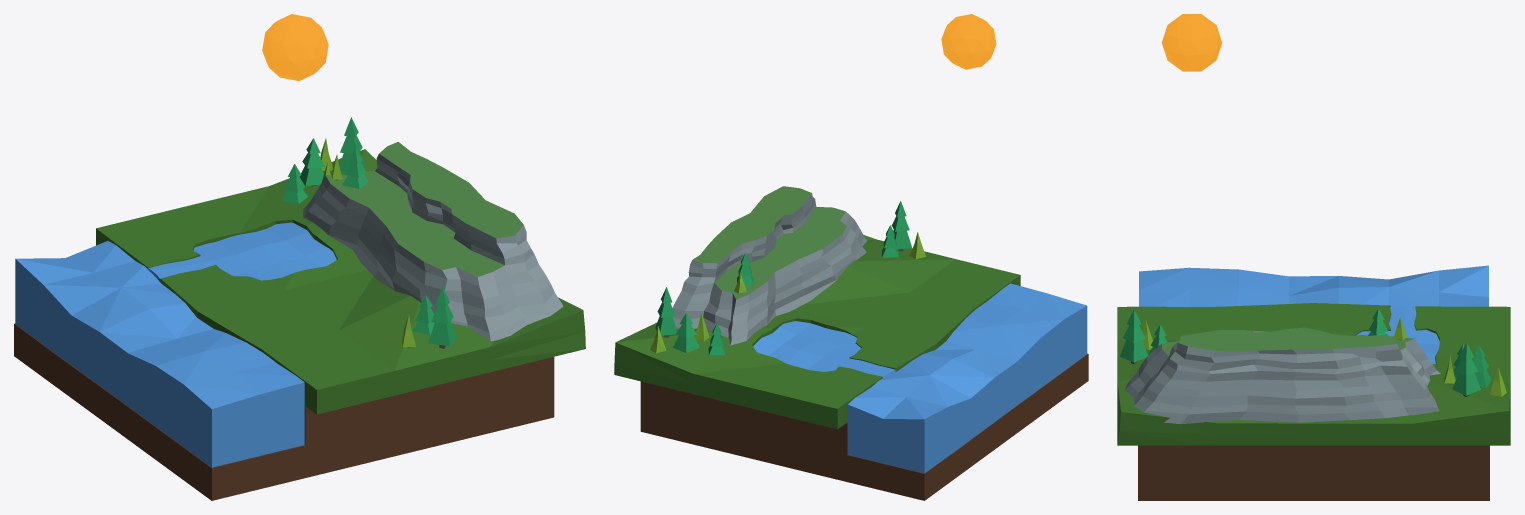
File: water_cycle_model.glb
3 renders of one model, left to right at view 1: azimuth 30°, elevation 25°; view 2: azimuth 150°, elevation 25°; view 3: azimuth 270°, elevation 25°, orthographic. The views are drawn at different scales.
Parts seen in each view (by area): view 1: Cube, Cube.002, Plane, Plane.001, Icosphere, Cube.009, Cube.005, Cube.006; view 2: Cube, Cube.002, Plane, Plane.001, Icosphere, Cube.006, Cube.005, Cube.009; view 3: Cube, Plane, Cube.002, Icosphere, Plane.001, Cube.009, Cube.006, Cube.005.
Part boxes in pixels (x1,y1,x2,y2): Cube: (14,149,585,500); Cube.002: (15,241,304,467); Plane: (303,142,563,341); Plane.001: (147,222,336,282); Icosphere: (262,14,328,80); Cube.009: (428,287,456,348); Cube.005: (299,138,324,186); Cube.006: (339,117,365,174); Cube: (614,235,1088,500); Cube.002: (847,283,1087,473); Plane: (672,186,866,345); Plane.001: (753,321,896,378); Icosphere: (941,14,996,69); Cube.006: (655,287,677,337); Cube.005: (673,313,699,353); Cube.009: (891,201,911,251); Cube: (1117,303,1510,500); Plane: (1125,327,1440,424); Cube.002: (1139,265,1488,306); Icosphere: (1161,14,1222,71); Plane.001: (1357,306,1439,364); Cube.009: (1119,309,1147,363); Cube.006: (1452,342,1480,396); Cube.005: (1473,345,1491,387).
Size of the model in its own units: 6.41 by 7.27 by 6.7.
